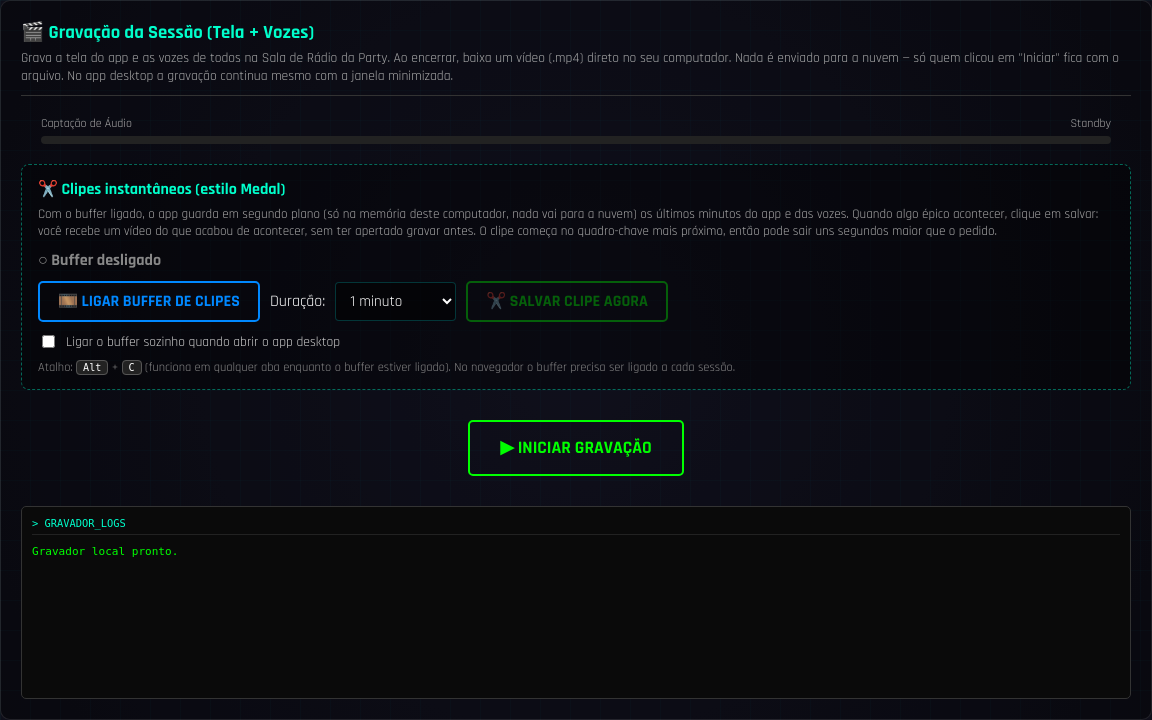
Scenario: GravadorPanel — casos de borda do fluxo de gravação › falls back to audio-only and releases the screen when neither video/mp4 nor video/webm is supported
What coordinates should you click on to do the following:
click the button "▶ INICIAR GRAVAÇÃO"
I would click on:
 (576, 448)
Its box is [468,420,684,476].
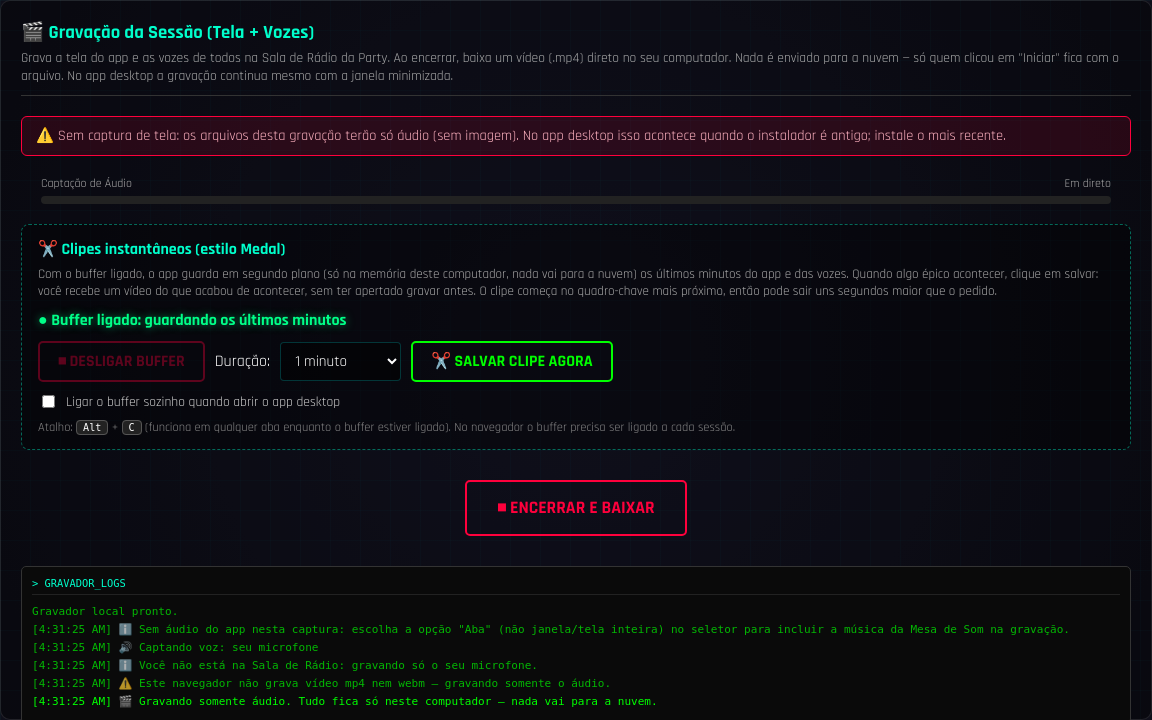
Check: the text "Este navegador não grava vídeo mp4 nem webm" is shown, box [32,677,611,690]
